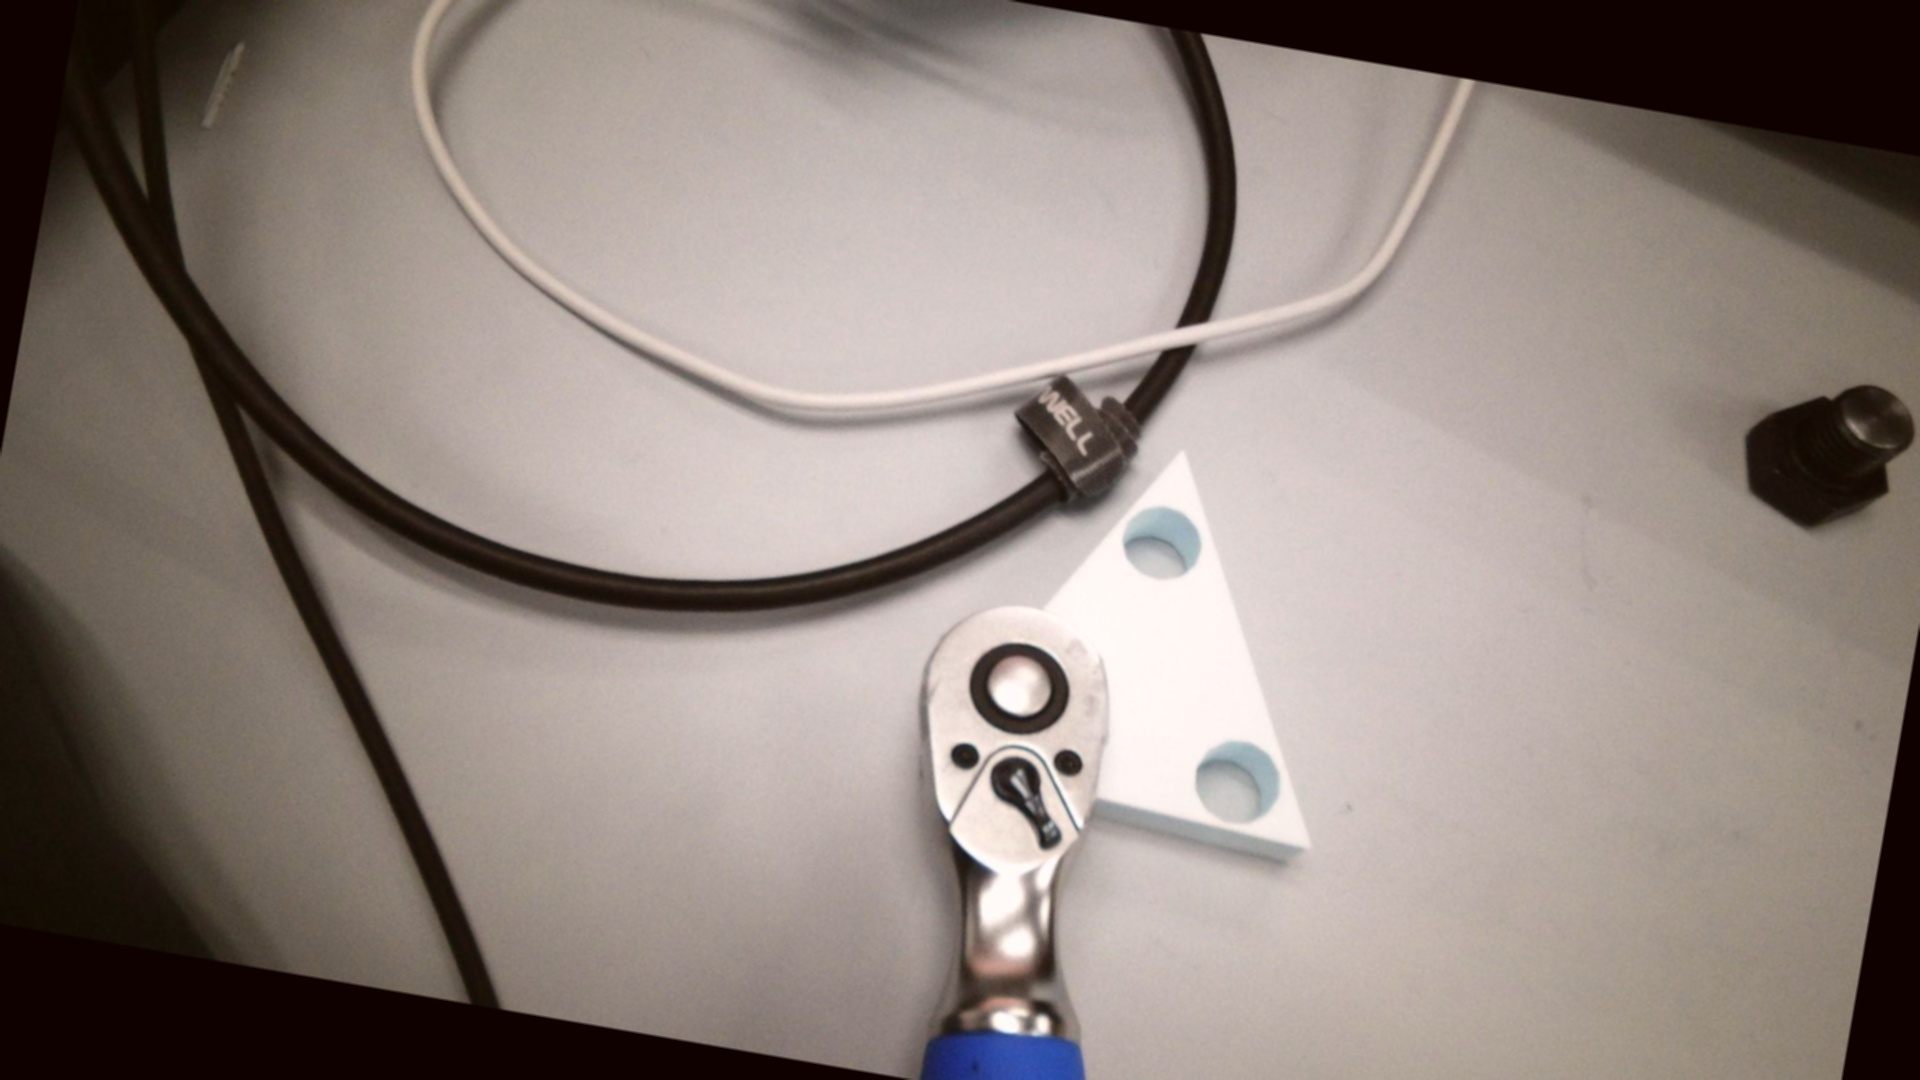hole: (1187, 732, 1288, 833), (1114, 498, 1208, 585)
obj: (1000, 430, 1374, 872)
wrench: (963, 633, 1079, 741)
